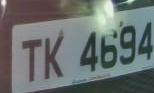4: (76, 28, 101, 75), (136, 17, 153, 64)
6: (98, 25, 120, 73)
9: (117, 22, 139, 68)
K: (42, 32, 67, 86)
T: (20, 32, 45, 90)
